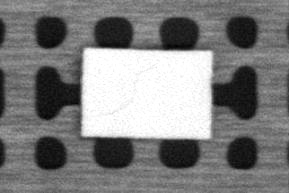DIE_CRACK: (98, 63, 155, 115)
